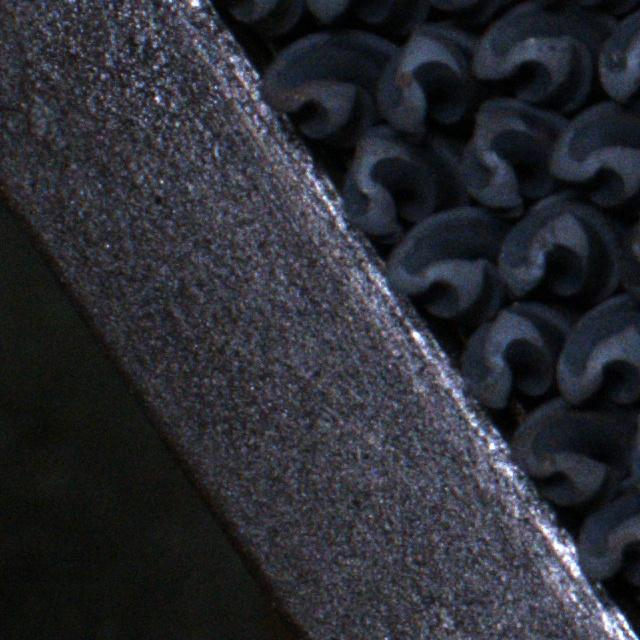tool_b: (262, 29, 401, 144), (472, 3, 620, 110), (343, 127, 472, 245), (384, 209, 506, 326), (497, 190, 625, 298), (508, 400, 634, 508), (458, 301, 572, 413), (461, 98, 572, 212), (374, 23, 480, 133), (552, 100, 640, 206), (559, 296, 640, 408), (579, 490, 640, 599), (208, 0, 326, 37), (599, 4, 640, 107), (303, 0, 428, 33), (618, 190, 640, 310), (419, 0, 544, 21)
